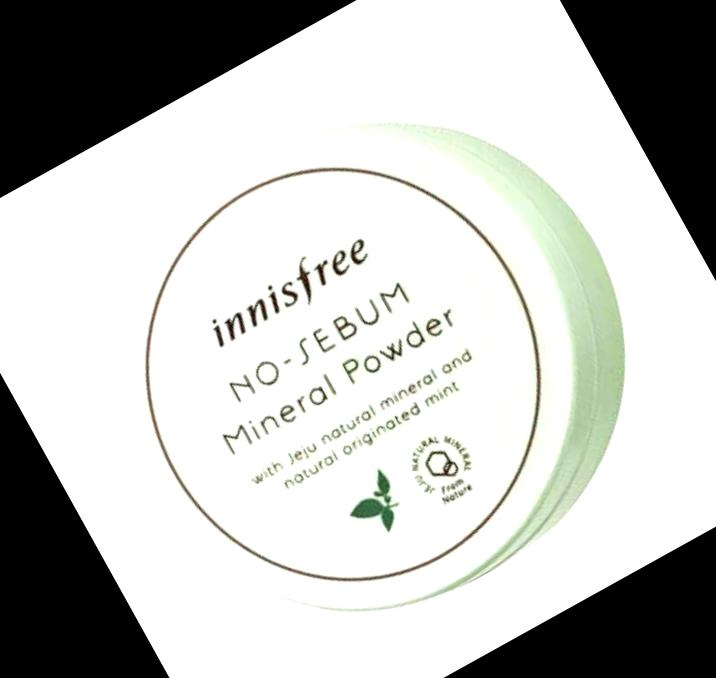cosmetic: (41, 37, 696, 678)
